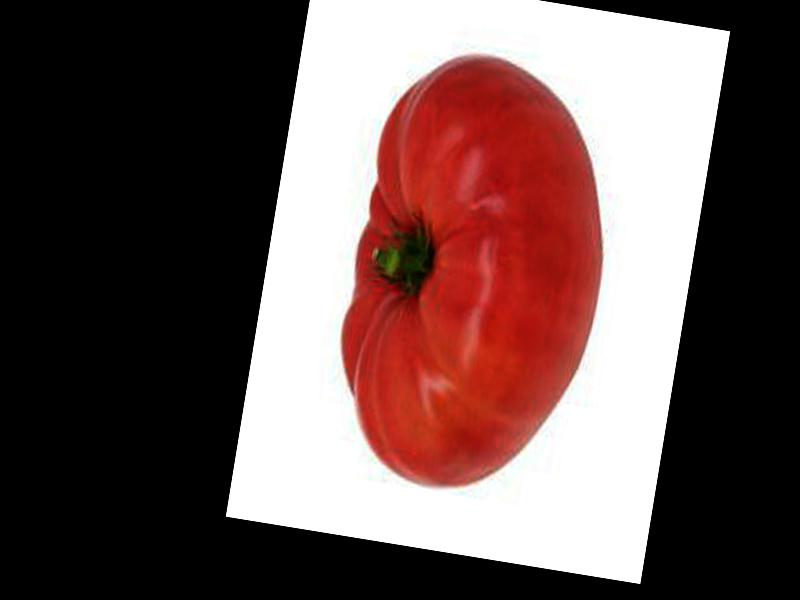Tomato: (325, 43, 630, 508)
